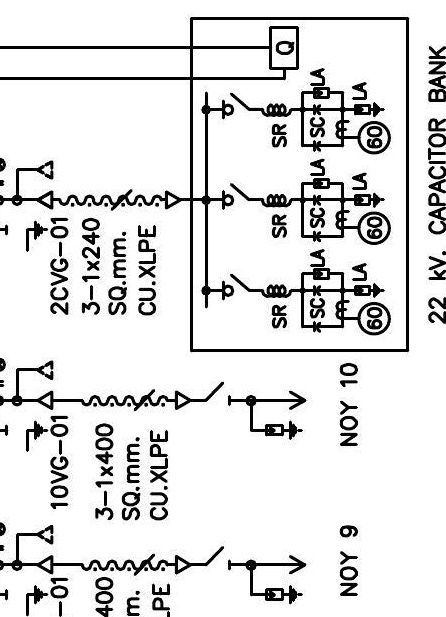22_cap_bank: (189, 16, 410, 353)
22_ds_la_out: (205, 380, 308, 440), (206, 545, 308, 605)
22_gs: (5, 419, 50, 453), (4, 219, 49, 253)
Q: (268, 25, 300, 71)
terminator_single: (164, 190, 182, 211), (174, 390, 192, 410), (175, 555, 192, 575)
terminator_w_future: (15, 524, 55, 576), (15, 359, 54, 411), (15, 159, 54, 211)
